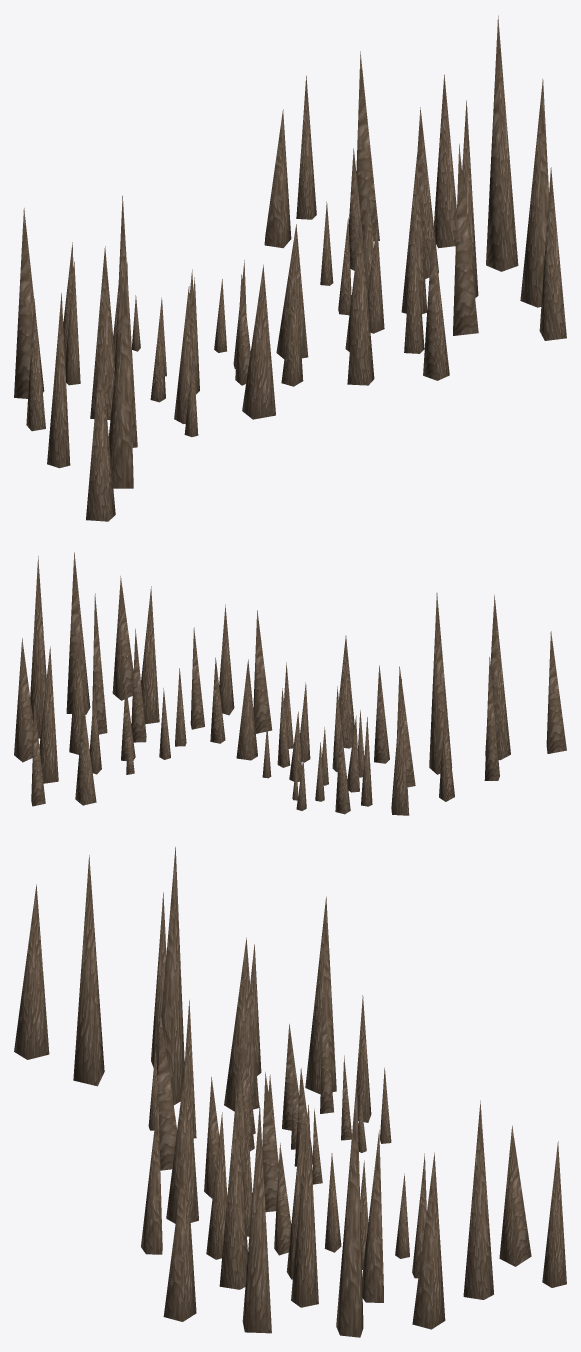
File: area_01_8.FBX
The picture shows the model from 3 angles, top to bottom: view 1: azimuth 30°, elevation 25°; view 2: azimuth 150°, elevation 25°; view 3: azimuth 270°, elevation 25°; orthographic projection. The views are drawn at different scales.
Parts seen in each view (by area): view 1: area_01_8; view 2: area_01_8; view 3: area_01_8.
Part boxes in pixels (x1,y1,x2,y2): area_01_8: (14,15,566,521); area_01_8: (14,552,566,815); area_01_8: (14,847,566,1337).
Bounding box in the file's own units: 84.87 × 34.84 × 68.
